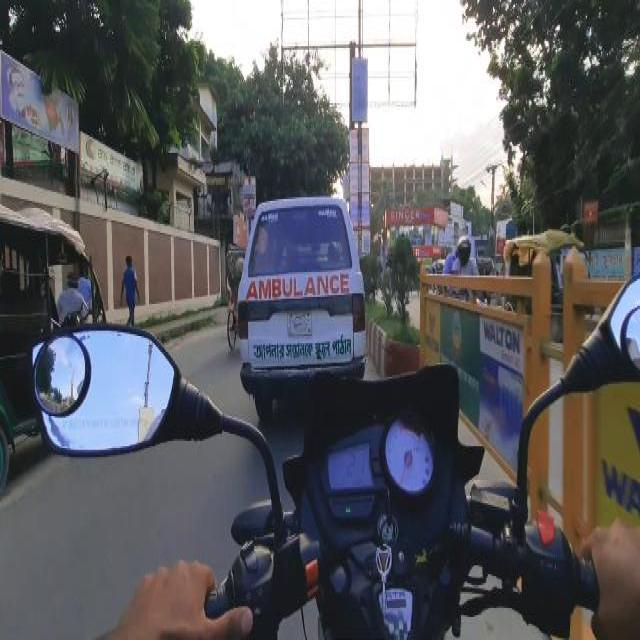ambulance: (236, 194, 366, 410)
auto rickshaw: (2, 204, 112, 482)
motorbike: (29, 325, 635, 624)
rickshaw: (222, 244, 234, 350)
